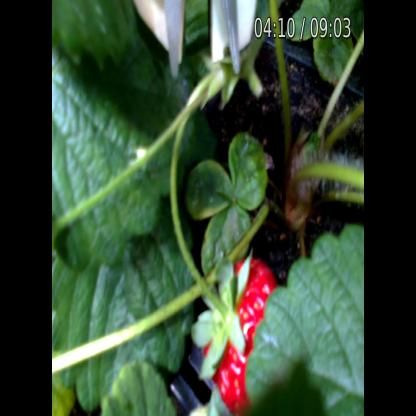ripe: (211, 248, 276, 415)
